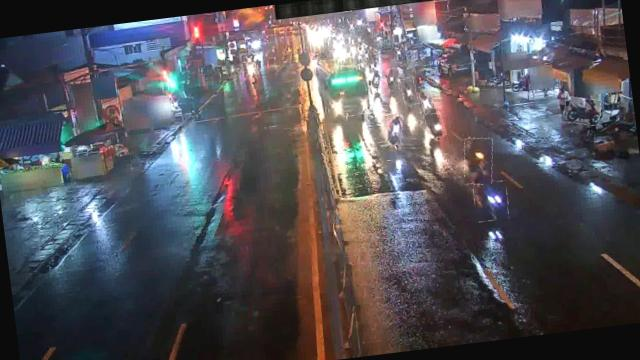Bike: (460, 136, 496, 186), (470, 180, 510, 224), (561, 94, 602, 127), (422, 106, 446, 138), (384, 112, 406, 145), (418, 84, 436, 115), (400, 76, 418, 105), (384, 67, 400, 90), (370, 68, 382, 88)
Bus: (314, 54, 372, 119)
